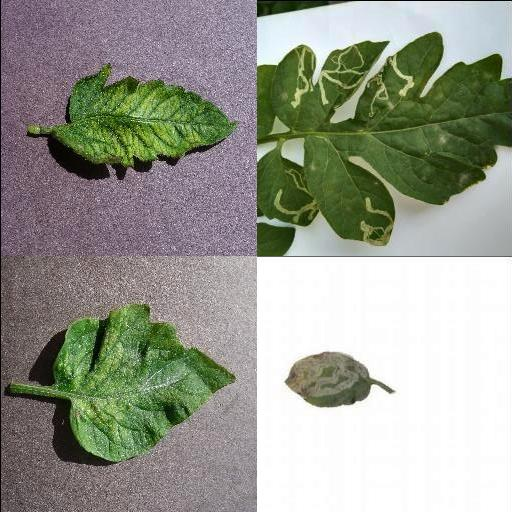Leaf Miner: (271, 31, 512, 246), (284, 349, 372, 406), (256, 148, 319, 227)
Mosaic Virus: (55, 64, 239, 168)
Spider Mites: (52, 307, 236, 462)
